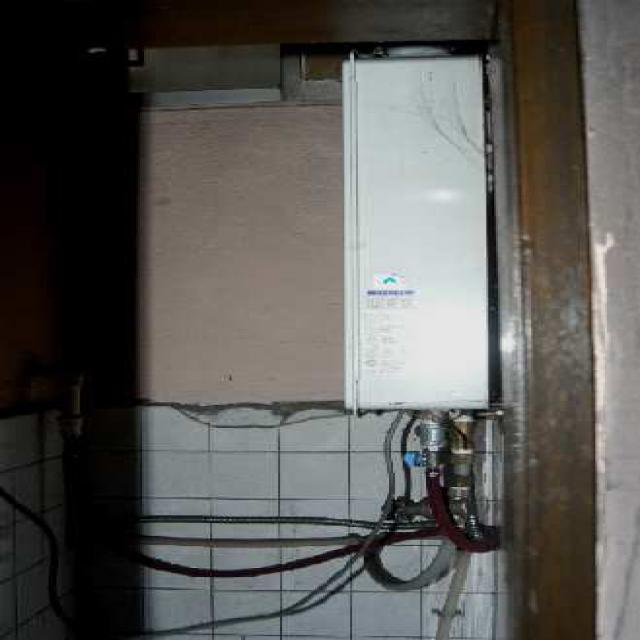Boiler: (74, 27, 546, 570)
